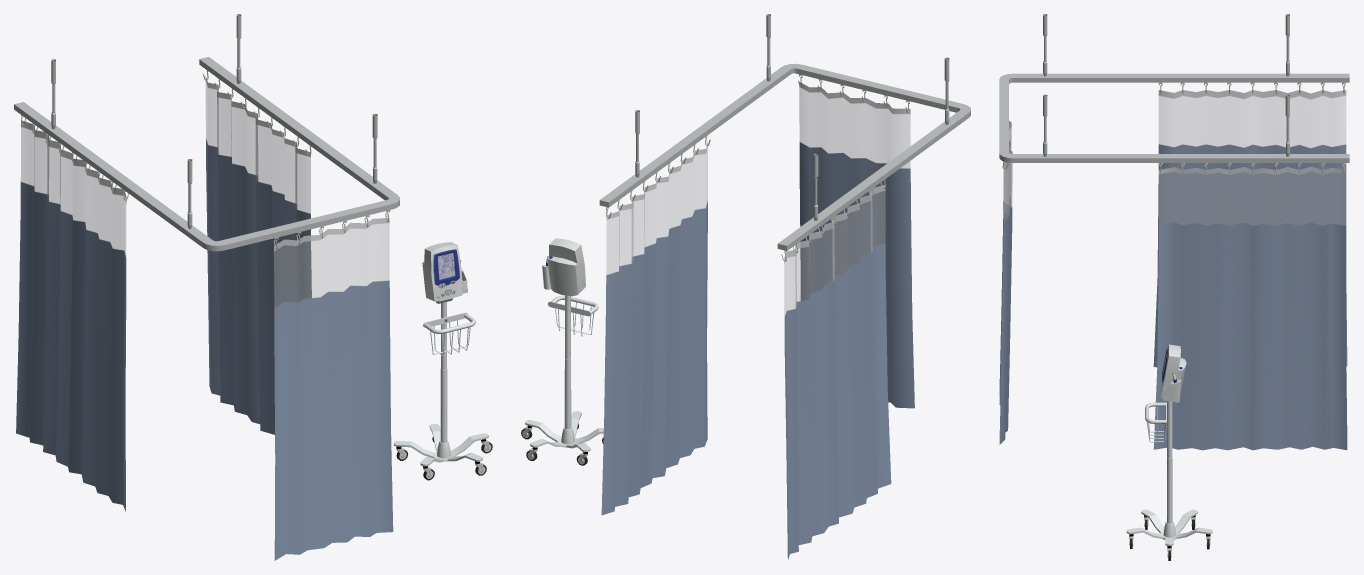
File: privacy-curtain-monitor-sketchfab-ccby.glb
3 views of the same model, side by side, from view 1: azimuth 30°, elevation 25°; view 2: azimuth 150°, elevation 25°; view 3: azimuth 270°, elevation 25° (orthographic). The views are drawn at different scales.
Visible parts, largest first — view 1: F_Curtain, L_Curtain, R_Curtain, Rail, VitalsMonitor, Screen; view 2: L_Curtain, R_Curtain, F_Curtain, Rail, VitalsMonitor, Screen; view 3: R_Curtain, L_Curtain, Rail, F_Curtain, VitalsMonitor, Screen.
Part boxes in pixels (left/top/right/bottom): F_Curtain: left=274, top=218, right=393, bottom=560; L_Curtain: left=16, top=121, right=126, bottom=511; R_Curtain: left=205, top=76, right=311, bottom=434; Rail: left=14, top=14, right=399, bottom=251; VitalsMonitor: left=393, top=302, right=492, bottom=480; Screen: left=422, top=242, right=467, bottom=303; L_Curtain: left=784, top=184, right=891, bottom=559; R_Curtain: left=601, top=142, right=707, bottom=515; F_Curtain: left=799, top=82, right=914, bottom=408; Rail: left=599, top=14, right=970, bottom=250; VitalsMonitor: left=521, top=295, right=603, bottom=465; Screen: left=542, top=238, right=585, bottom=296; R_Curtain: left=1153, top=166, right=1347, bottom=450; L_Curtain: left=1153, top=90, right=1347, bottom=367; Rail: left=999, top=14, right=1349, bottom=162; F_Curtain: left=999, top=121, right=1012, bottom=444; VitalsMonitor: left=1126, top=401, right=1212, bottom=560; Screen: left=1161, top=344, right=1186, bottom=402.
Bounding box in the file's own units: 2 × 2.2 × 1.81.
2 materials, 2 textured.
